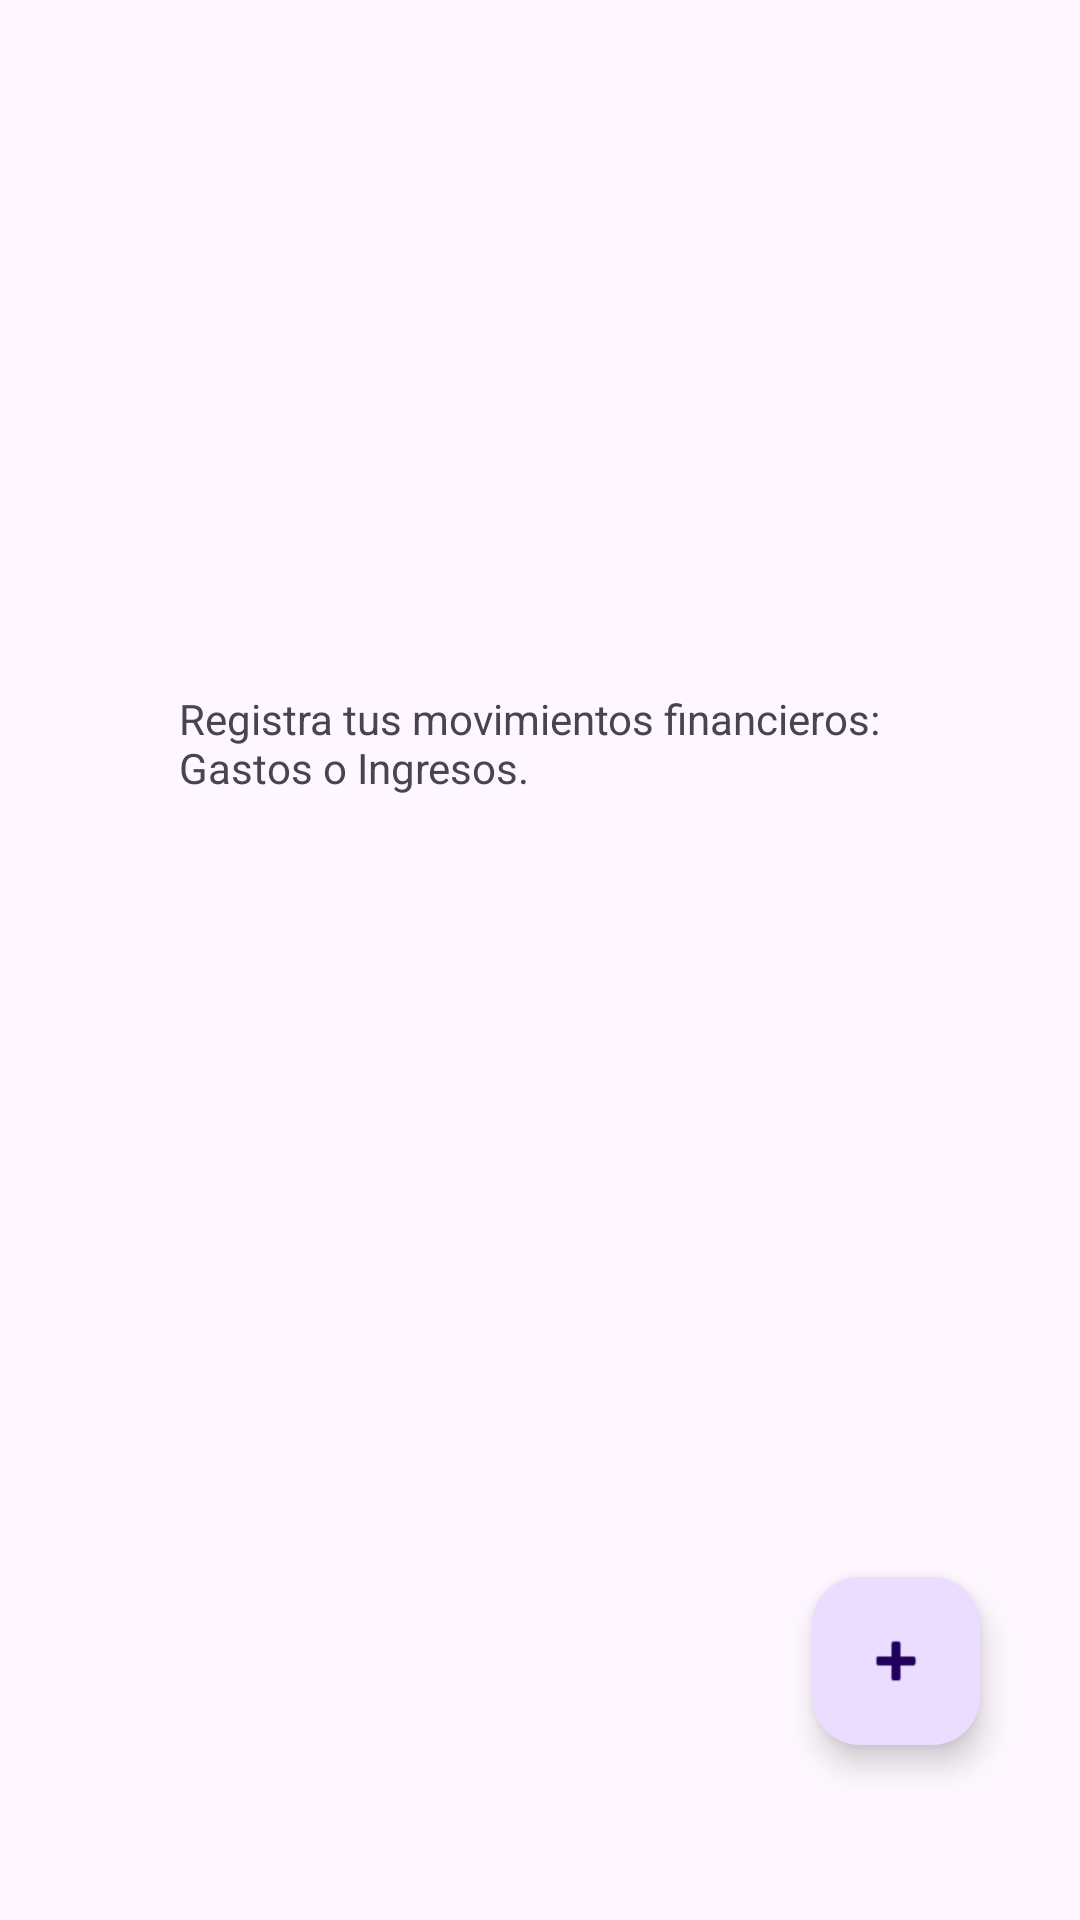

Named icons in this screenshot (1080w x 1920h) and their bounding boxes, (x1, y1, x2, y2):
add: (812, 1577, 980, 1745)
